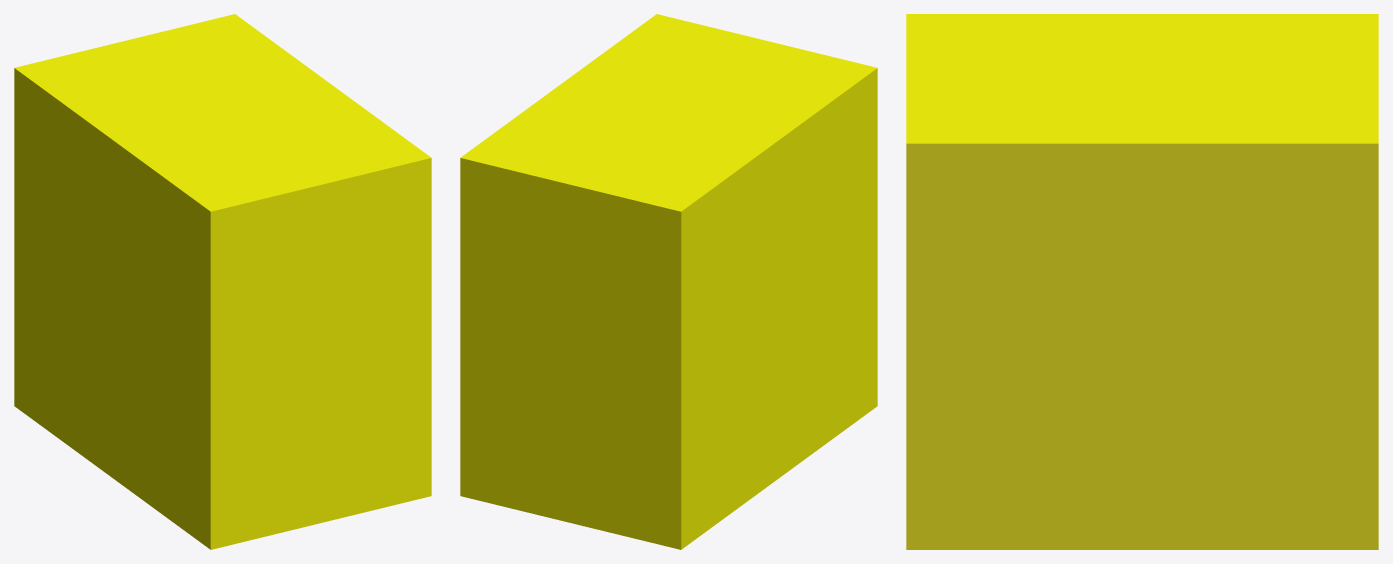
Rendered from + Computer.dae.
3 views of the same model, side by side, from view 1: azimuth 30°, elevation 25°; view 2: azimuth 150°, elevation 25°; view 3: azimuth 270°, elevation 25° (orthographic). The views are drawn at different scales.
Visible parts, largest first — view 1: Actor0; view 2: Actor0; view 3: Actor0.
Boxes of the visible parts, <box> form: Actor0: <box>14,14,431,549</box>; Actor0: <box>460,14,877,549</box>; Actor0: <box>906,14,1378,549</box>.
Size of the model in its own units: 0.1543 by 0.2257 by 0.2378.
